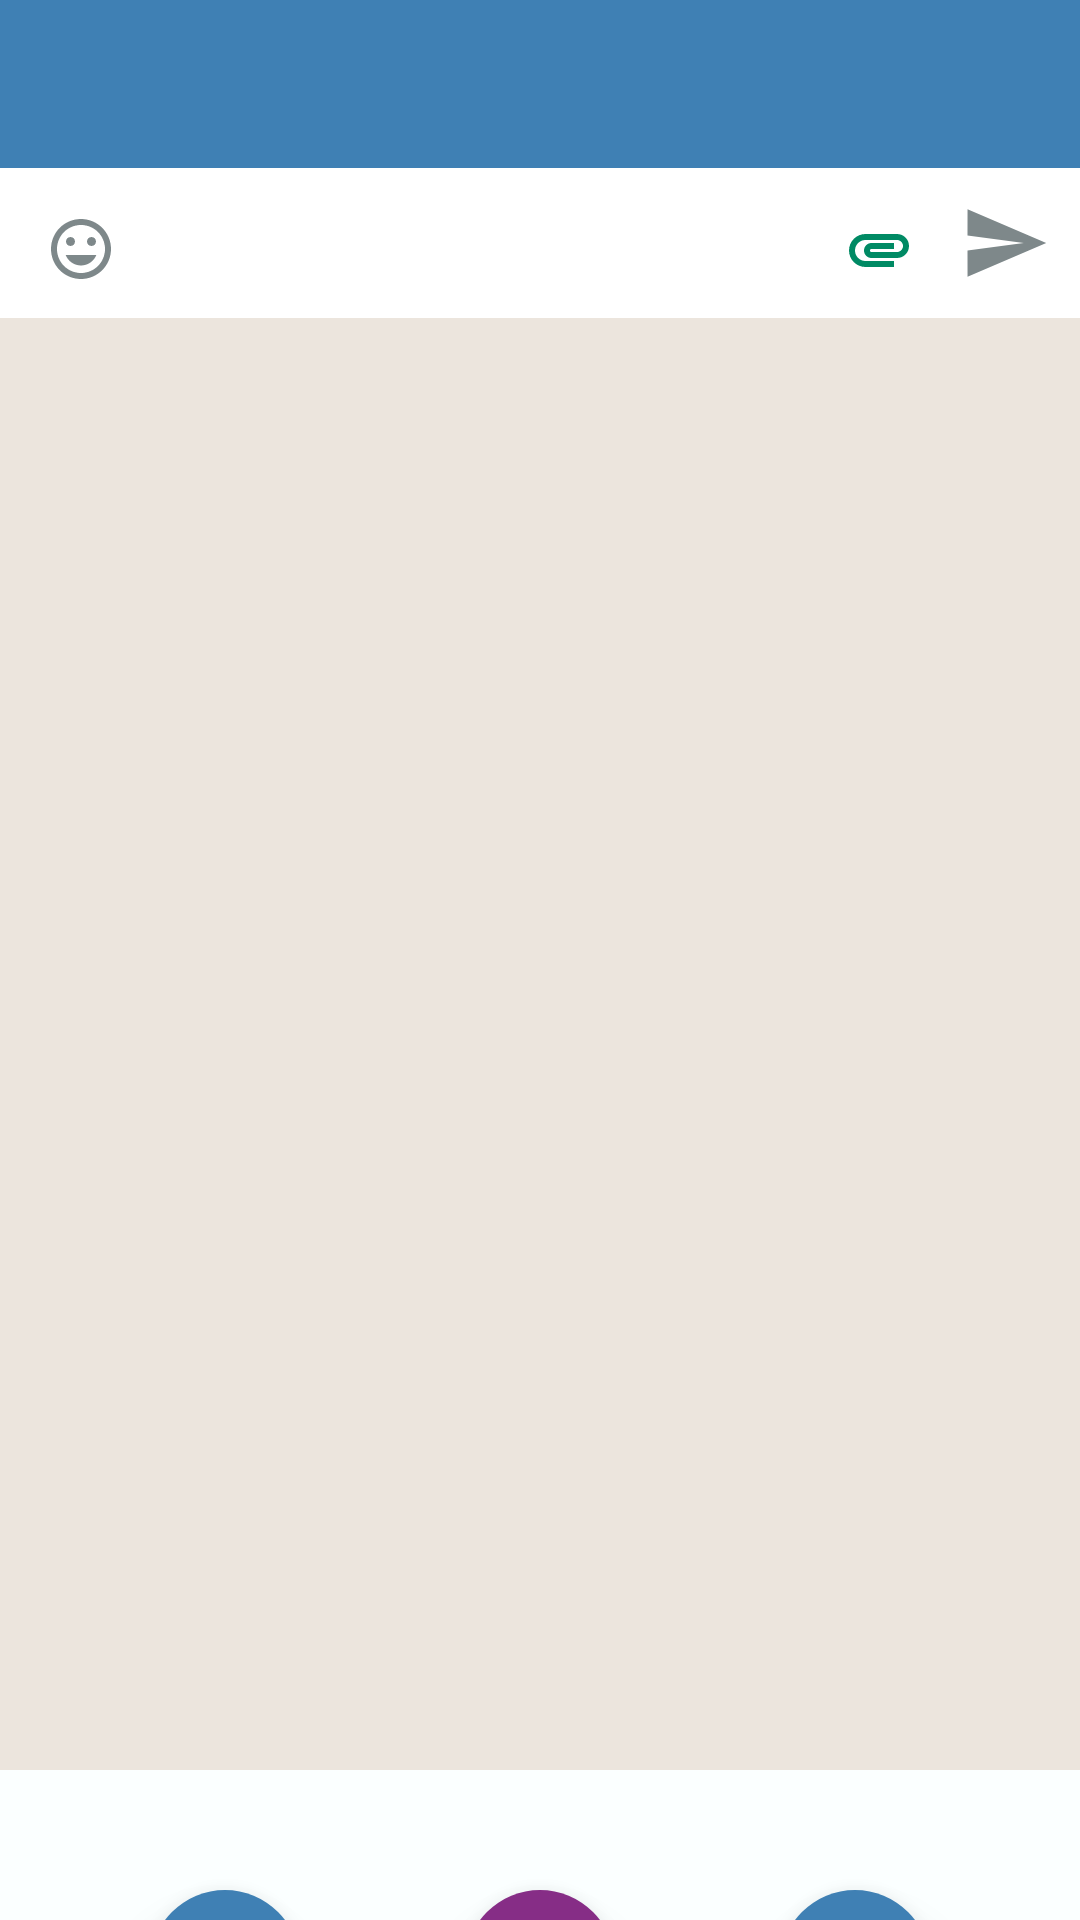

Named icons in this screenshot (1080 x 1920) and their centers, (x=x, y=y):
attachment: (x=879, y=250)
insert emoticon: (x=81, y=249)
send: (x=1006, y=243)
